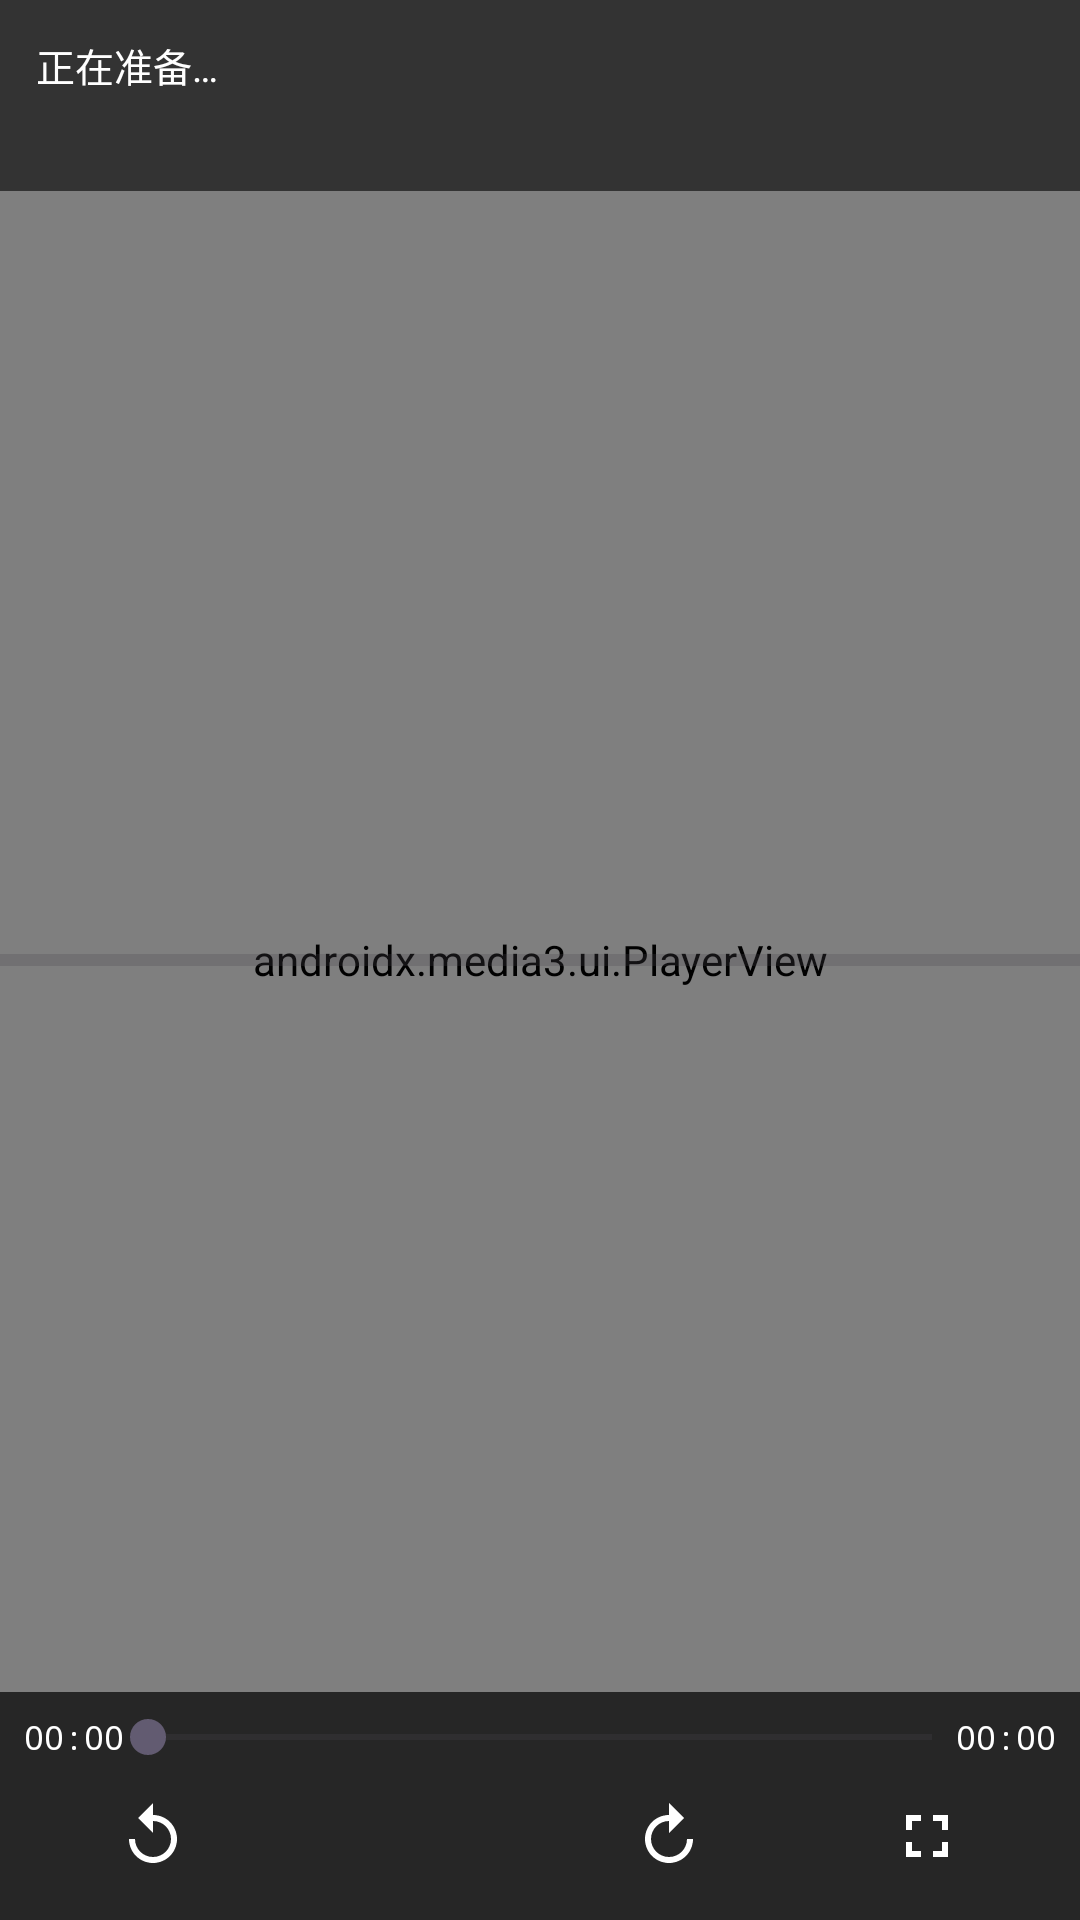

Icons on this 1080*1920 Android screen, each with its box as (x1, y1, x2, y2):
全屏: (906, 1815, 948, 1857)
前进10秒: (645, 1803, 693, 1863)
后退10秒: (129, 1803, 177, 1863)
